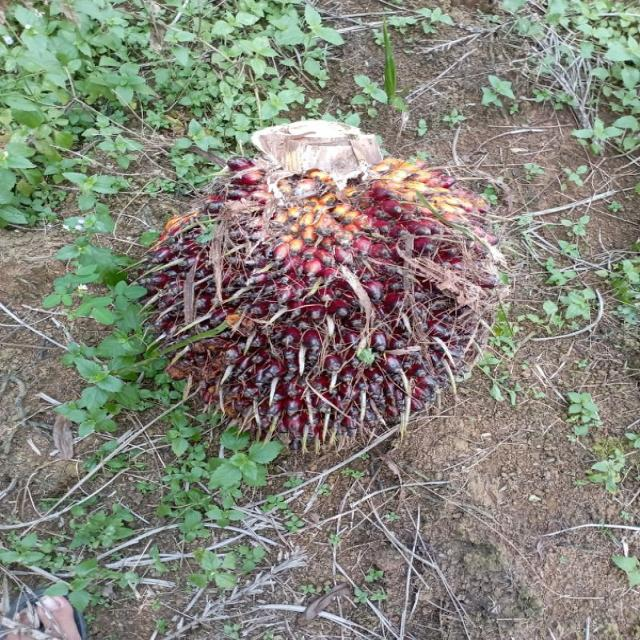fraksi 1: (85, 79, 523, 485)
